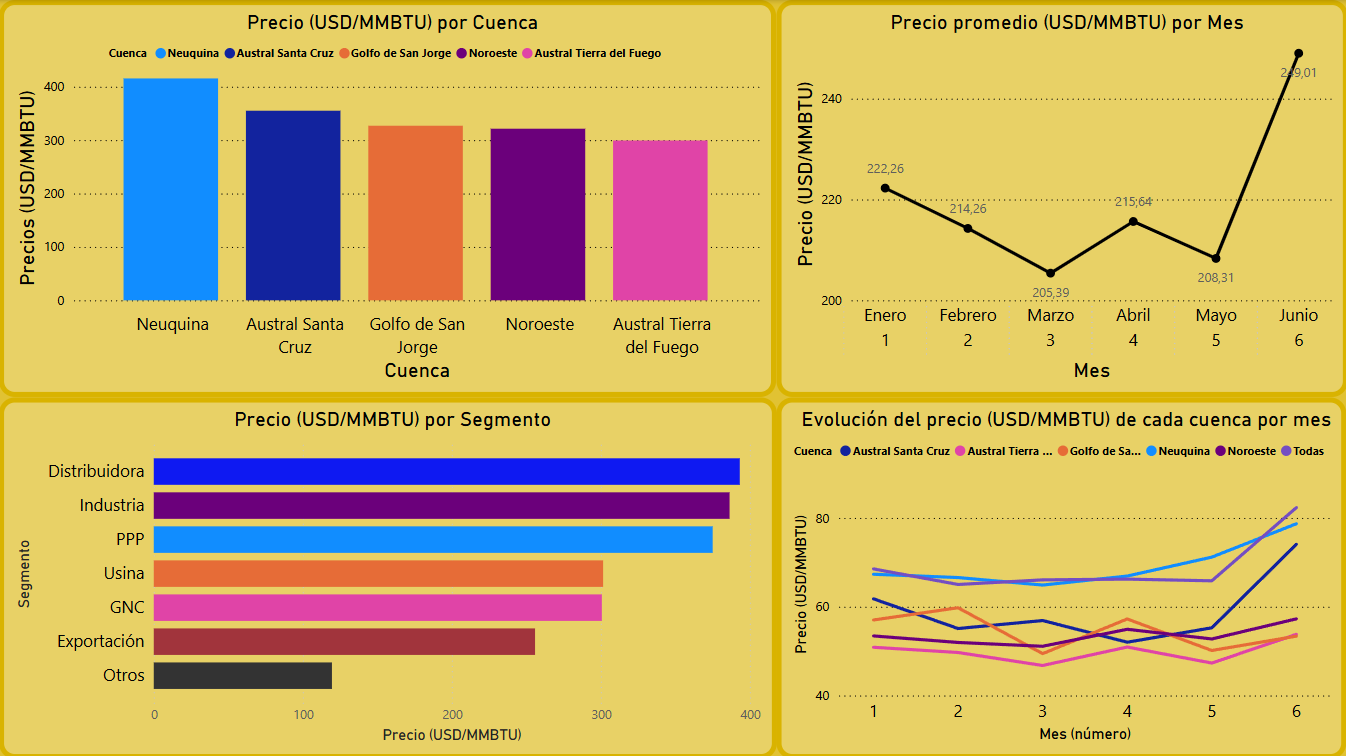

The page's visual inventory and layout, read from the dashboard file:
{"tool":"powerbi","page":{"name":"precios_gas","canvas":[1280,720],"ordinal":0},"visuals":[{"type":"columnChart","title":"Precio (USD/MMBTU) por Cuenca ","fields":{"Category":["Datos.Cuenca"],"Y":["Sum(Datos.Precio (USD/MMBTU))"],"Series":["Datos.Cuenca"]},"box":[0,0,737.7,376.9],"z":0},{"type":"lineChart","title":"Precio promedio (USD/MMBTU) por Mes","fields":{"Category":["Datos.monthNumber","Datos.Mes"],"Y":["Sum(Datos.Precio (USD/MMBTU))"]},"box":[737.4,0,542.3,376.7],"z":1000},{"type":"clusteredBarChart","title":"Precio (USD/MMBTU) por Segmento","fields":{"Category":["Datos.Segmento"],"Y":["Sum(Datos.Precio (USD/MMBTU))"]},"box":[0,377,738,343],"z":2000},{"type":"lineChart","title":"Evolución del precio (USD/MMBTU) de cada cuenca por mes","fields":{"Y":["Sum(Datos.Precio (USD/MMBTU))"],"Category":["Datos.monthNumber"],"Series":["Datos.Cuenca"]},"box":[738,377,541,343],"z":3000}]}

Visuals, with their boxes in screenshot pixels (x1, y1, x2, y2), scaled from the page's 1280x720 canvas onto the 1346x756 screenshot:
"Precio (USD/MMBTU) por Cuenca " columnChart: 0:0:776:396
"Precio promedio (USD/MMBTU) por Mes" lineChart: 775:0:1345:396
"Precio (USD/MMBTU) por Segmento" clusteredBarChart: 0:396:776:755
"Evolución del precio (USD/MMBTU) de cada cuenca por mes" lineChart: 776:396:1345:755
